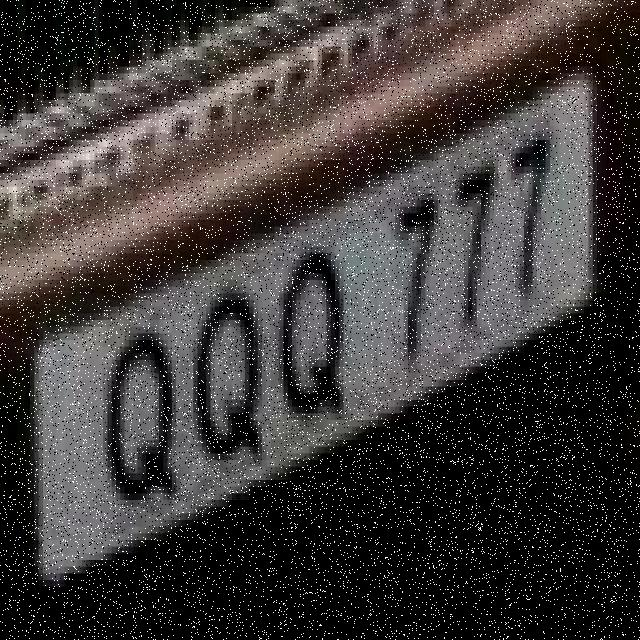licenseplate: (12, 55, 614, 596)
